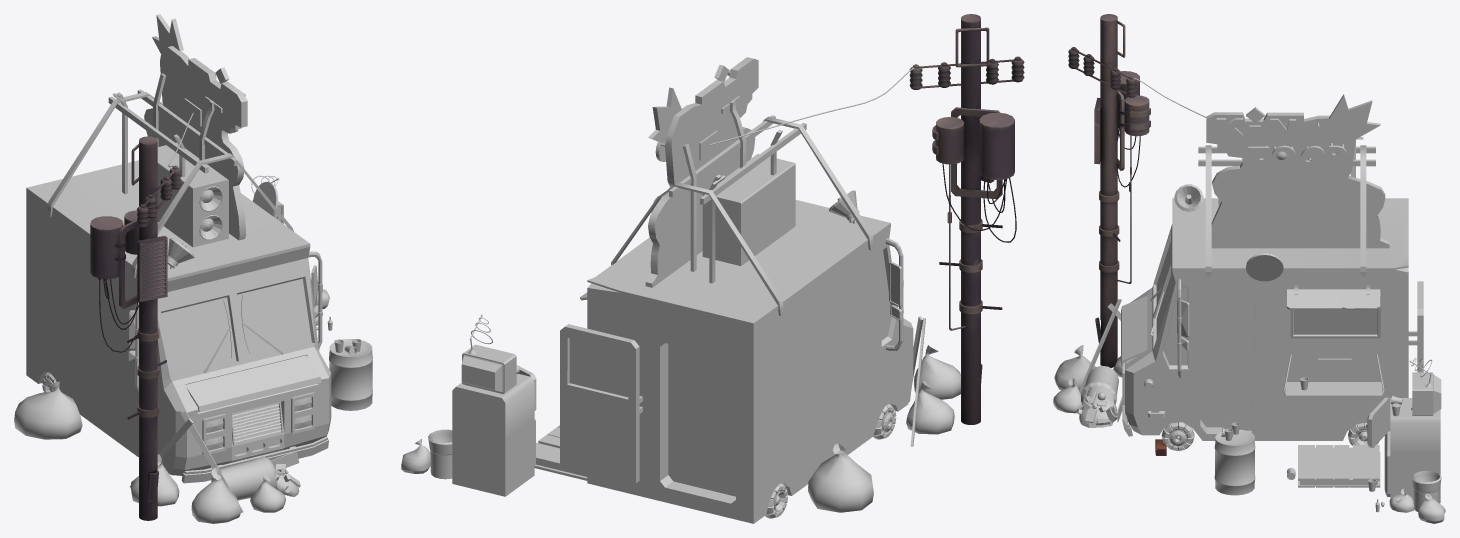
The model's file is hotdog.fbx.
3 renders of one model, left to right at view 1: azimuth 30°, elevation 25°; view 2: azimuth 150°, elevation 25°; view 3: azimuth 270°, elevation 25°, orthographic. The views are drawn at different scales.
Parts seen in each view (by area): view 1: Bus, Floor; view 2: Bus, Floor; view 3: Bus, Floor.
Boxes of the visible parts, x1,y1,x2,y2 form: Bus: (14,14,372,523); Floor: (90,136,181,520); Bus: (401,57,960,523); Floor: (909,14,1024,424); Bus: (1053,78,1445,523); Floor: (1068,14,1166,455).
Size of the model in its own units: 341 by 309 by 314.
